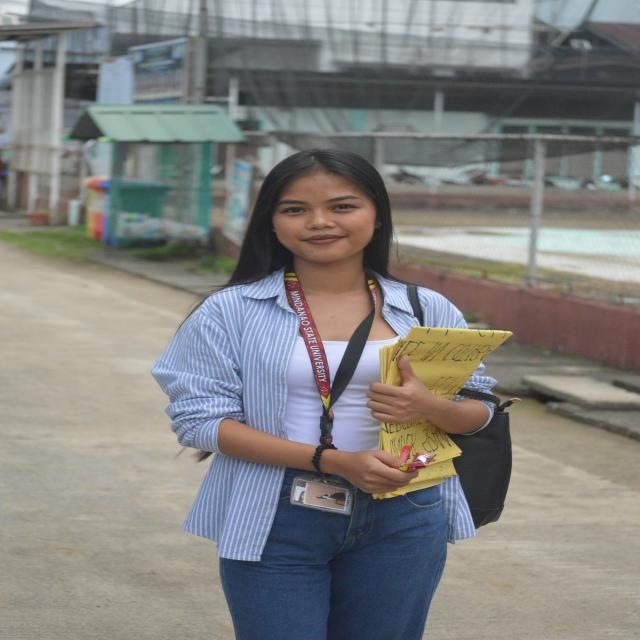person: (153, 150, 491, 639)
